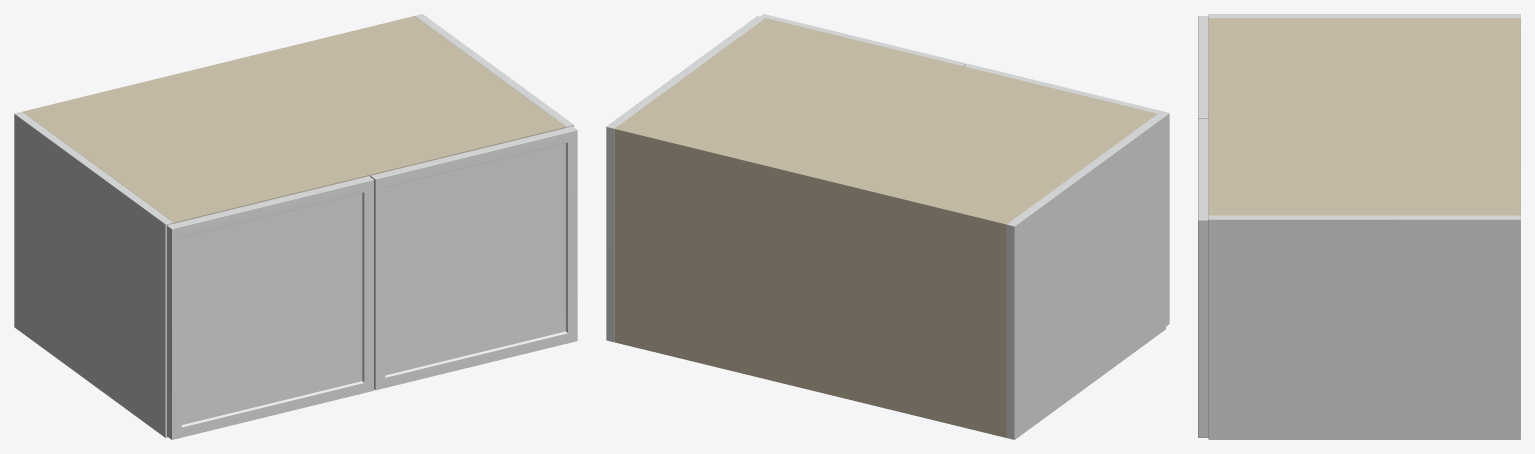
Rendered from oppein-ply-ssw-w361824.glb.
3 views of the same model, side by side, from view 1: azimuth 30°, elevation 25°; view 2: azimuth 150°, elevation 25°; view 3: azimuth 270°, elevation 25° (orthographic). The views are drawn at different scales.
Visible parts, largest first — view 1: Cabinet top, Door, Door.001, Cabinet side, Cabinet side.001, Cabinet back; view 2: Cabinet back, Cabinet top, Cabinet side, Cabinet side.001, Door, Door.001; view 3: Cabinet side.001, Cabinet top, Door.001, Cabinet back, Cabinet side, Door.
Part boxes in pixels (x1,y1,x2,y2): Cabinet top: (23,16,565,223); Door: (167,176,373,439); Door.001: (370,126,577,390); Cabinet side: (14,112,173,437); Cabinet side.001: (415,14,573,127); Cabinet back: (22,16,416,113); Cabinet back: (614,126,1009,437); Cabinet top: (614,18,1157,229); Cabinet side: (1006,114,1165,439); Cabinet side.001: (606,16,764,341); Door: (964,63,1169,326); Door.001: (760,14,965,66); Cabinet side.001: (1208,215,1520,439); Cabinet top: (1208,18,1520,215); Door.001: (1198,118,1208,437); Cabinet back: (1514,18,1520,215); Cabinet side: (1208,14,1520,17); Door: (1198,16,1208,118).
Size of the model in its own units: 0.9144 by 0.4572 by 0.6064.
